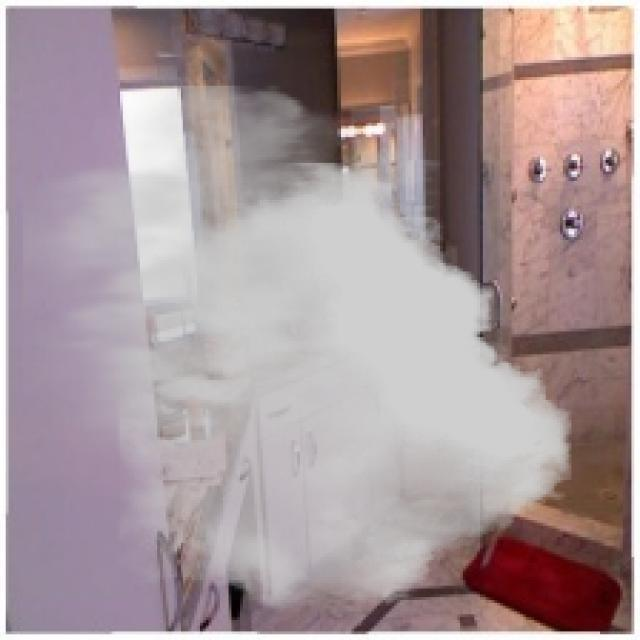Smoke: (22, 86, 572, 612)
